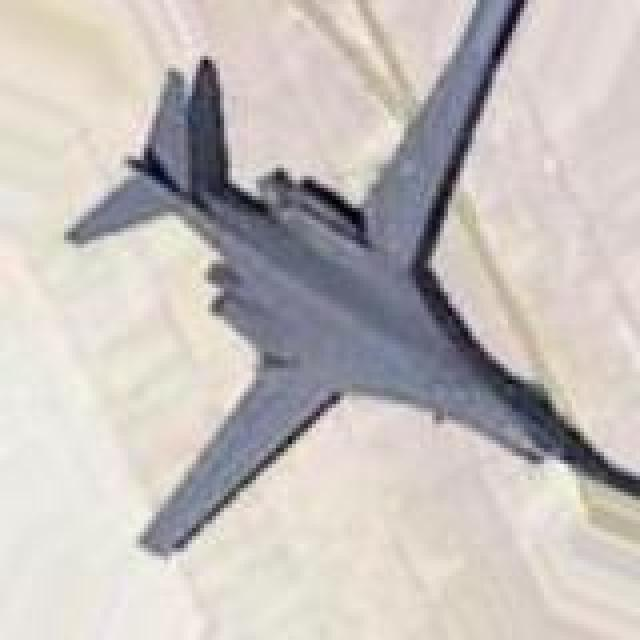B-1_TopDown: (60, 0, 636, 560)
